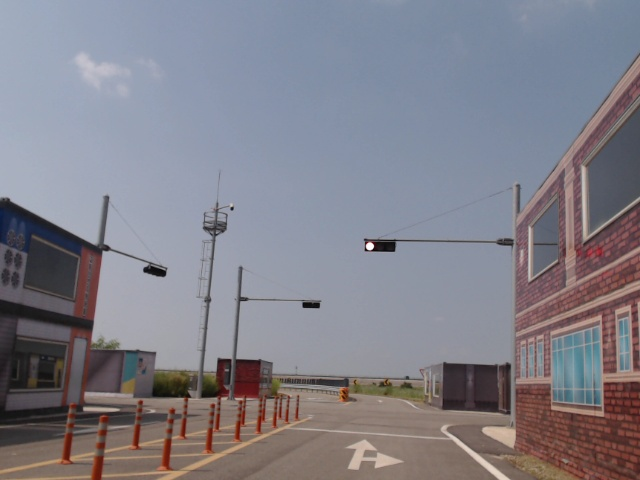red_3: (365, 240, 396, 252)
